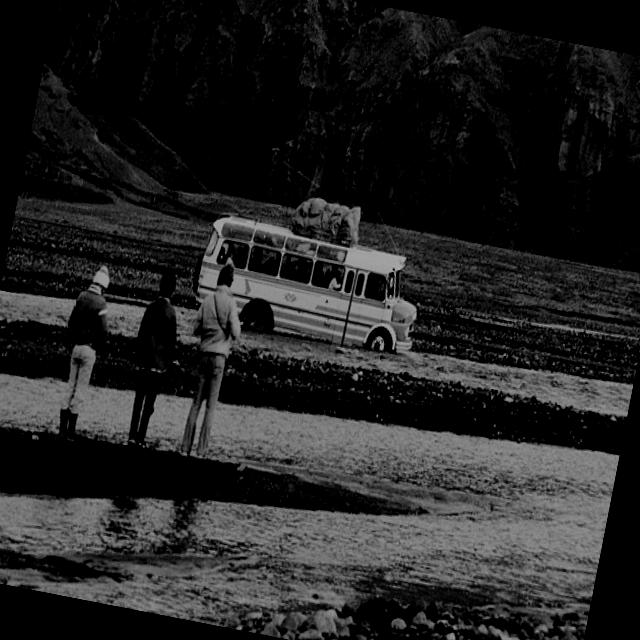Vehicle: (186, 211, 431, 361)
